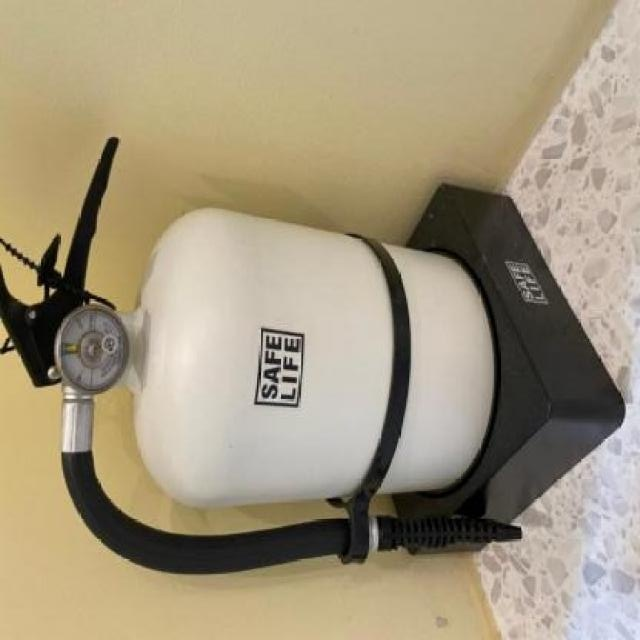fire extinguisher: (0, 134, 523, 575)
